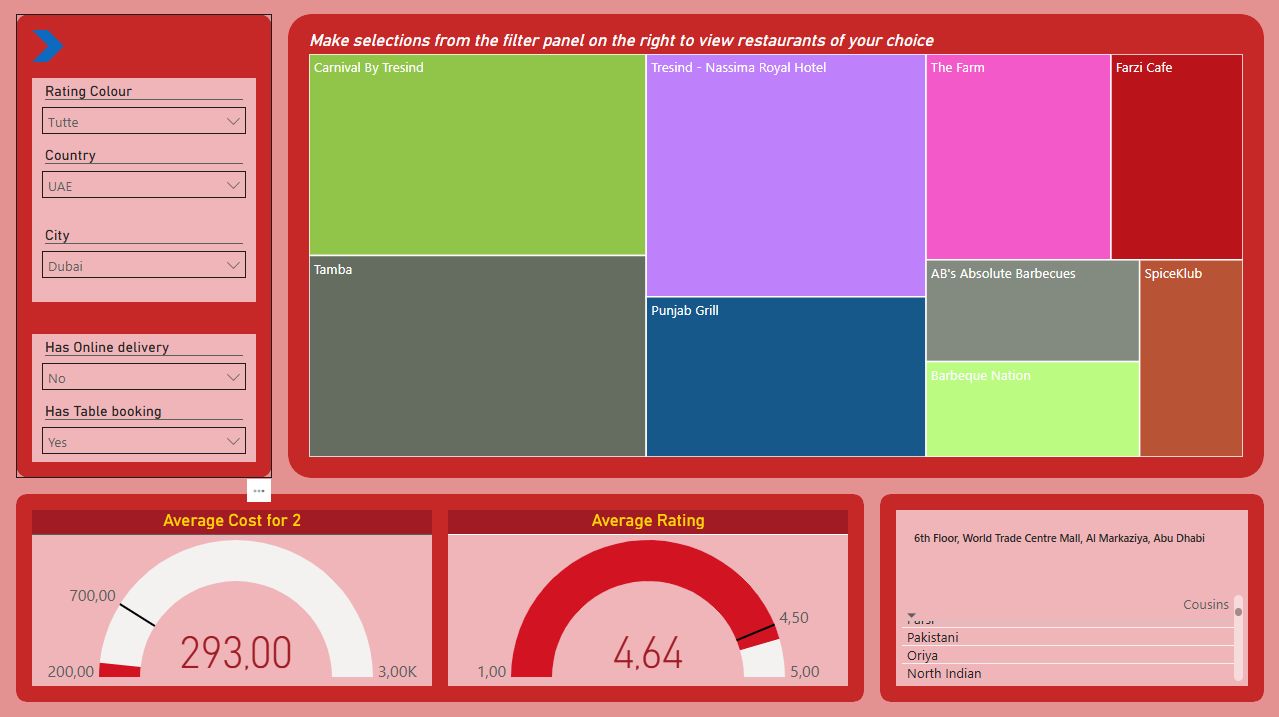

What the dashboard file says about the page in this screenshot:
{"tool":"powerbi","page":{"name":"Restaurant Details","canvas":[1280,720],"ordinal":1},"visuals":[{"type":"shape","box":[880,496,384,208],"z":0},{"type":"shape","box":[16,496,848,208],"z":1000},{"type":"shape","box":[288,16,976,464],"z":2000},{"type":"shape","box":[16,16,256,464],"z":3000},{"type":"slicer","fields":{"Values":["KPIs.Rating Colour"]},"box":[32,80,224,64],"z":4000},{"type":"slicer","fields":{"Values":["Country.Country"]},"box":[32,144,224,80],"z":5000},{"type":"slicer","fields":{"Values":["Restaurants.City"]},"box":[32,224,224,80],"z":6000},{"type":"slicer","fields":{"Values":["KPIs.Has Online delivery"]},"box":[32,336,224,64],"z":7000},{"type":"slicer","fields":{"Values":["KPIs.Has Table booking"]},"box":[32,400,224,64],"z":8000},{"type":"gauge","fields":{"Y":["KPIs.Average Rating"]},"box":[448,512,400,176],"z":9000},{"type":"gauge","title":"Average Cost for 2","fields":{"Y":["KPIs.Average Cost"]},"box":[32,512,400,176],"z":10000},{"type":"cardVisual","fields":{"Data":["Min(Restaurants.Restaurant Address)"]},"box":[896,512,352,80],"z":11000},{"type":"tableEx","fields":{"Values":["Cuisines.Cuisine"]},"box":[896,592,352,96],"z":12000},{"type":"treemap","title":"Make selections from the filter panel on the right to view restaurants of your choice","fields":{"Group":["Restaurants.Restaurant Name"],"Values":["KPIs.Average Cost"]},"box":[304,32,944,432],"z":13000},{"type":"shape","box":[32,32,32,32],"z":14000}]}

Visuals, with their boxes in screenshot pixels (x1, y1, x2, y2), scaled from the page's 1280x720 canvas onto the 1279x717 screenshot:
shape: select_region(879, 494, 1263, 701)
shape: select_region(16, 494, 863, 701)
shape: select_region(288, 16, 1263, 478)
shape: select_region(16, 16, 272, 478)
slicer - KPIs.Rating Colour: select_region(32, 80, 256, 143)
slicer - Country.Country: select_region(32, 143, 256, 223)
slicer - Restaurants.City: select_region(32, 223, 256, 303)
slicer - KPIs.Has Online delivery: select_region(32, 335, 256, 398)
slicer - KPIs.Has Table booking: select_region(32, 398, 256, 462)
gauge - KPIs.Average Rating: select_region(448, 510, 847, 685)
"Average Cost for 2" gauge: select_region(32, 510, 432, 685)
cardVisual - Min(Restaurants.Restaurant Address): select_region(895, 510, 1247, 590)
tableEx - Cuisines.Cuisine: select_region(895, 590, 1247, 685)
"Make selections from the filter panel on the right to view restaurants of your choice" treemap: select_region(304, 32, 1247, 462)
shape: select_region(32, 32, 64, 64)
